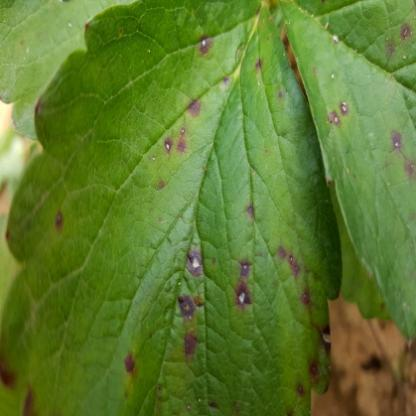Strawberry_Leaf_Spot: (0, 0, 342, 415), (273, 0, 415, 340)
